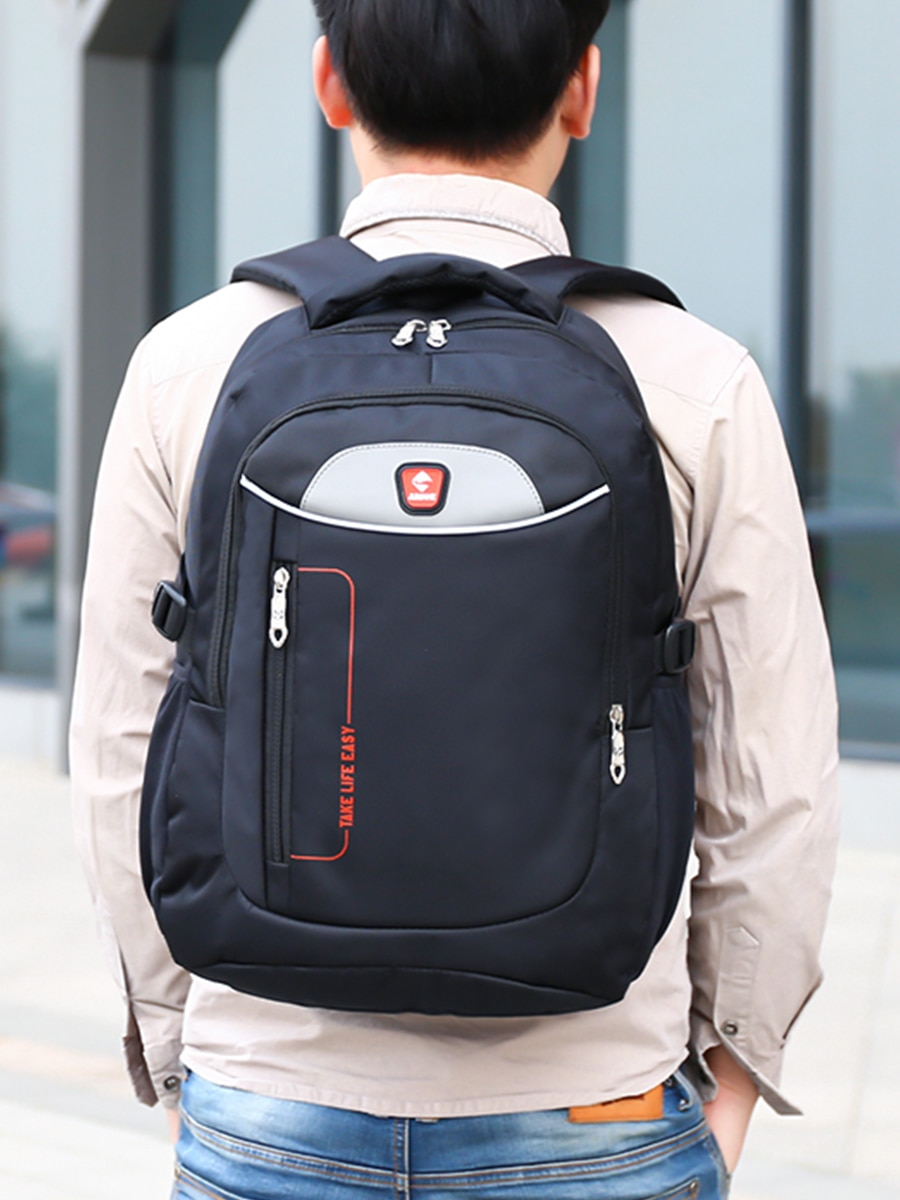Men's Backpacks: (132, 234, 695, 1016)
Tops|Shirts: (68, 174, 837, 1128)
